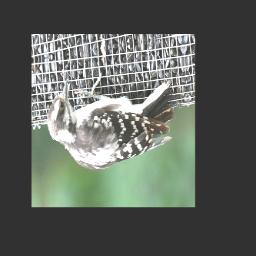Woodpecker: (44, 58, 182, 178)
